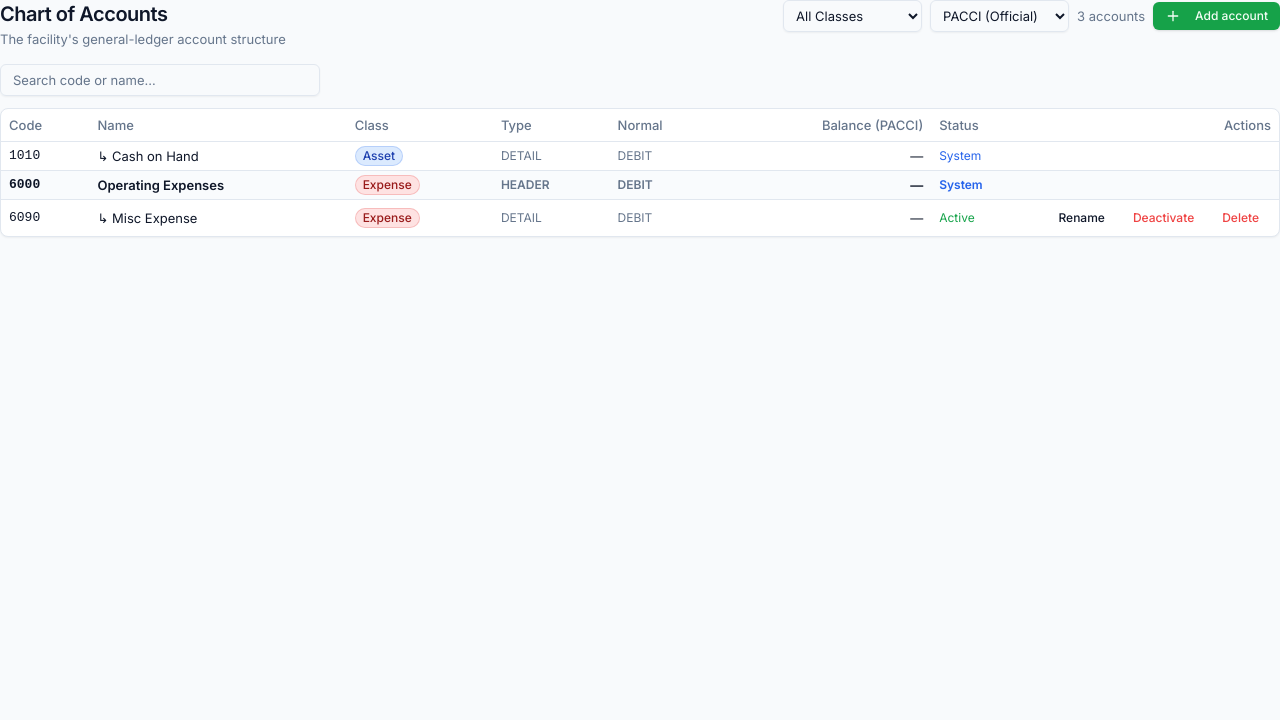
Test case: ChartOfAccountsPage — owner management › disables the section field for an EQUITY header — equity is placed by class, not by header
Expected: the text "↳ Misc Expense" is shown, [90,199,347,236]
Click the button "Add account".
click(1217, 16)  # box [1153,2,1279,30]
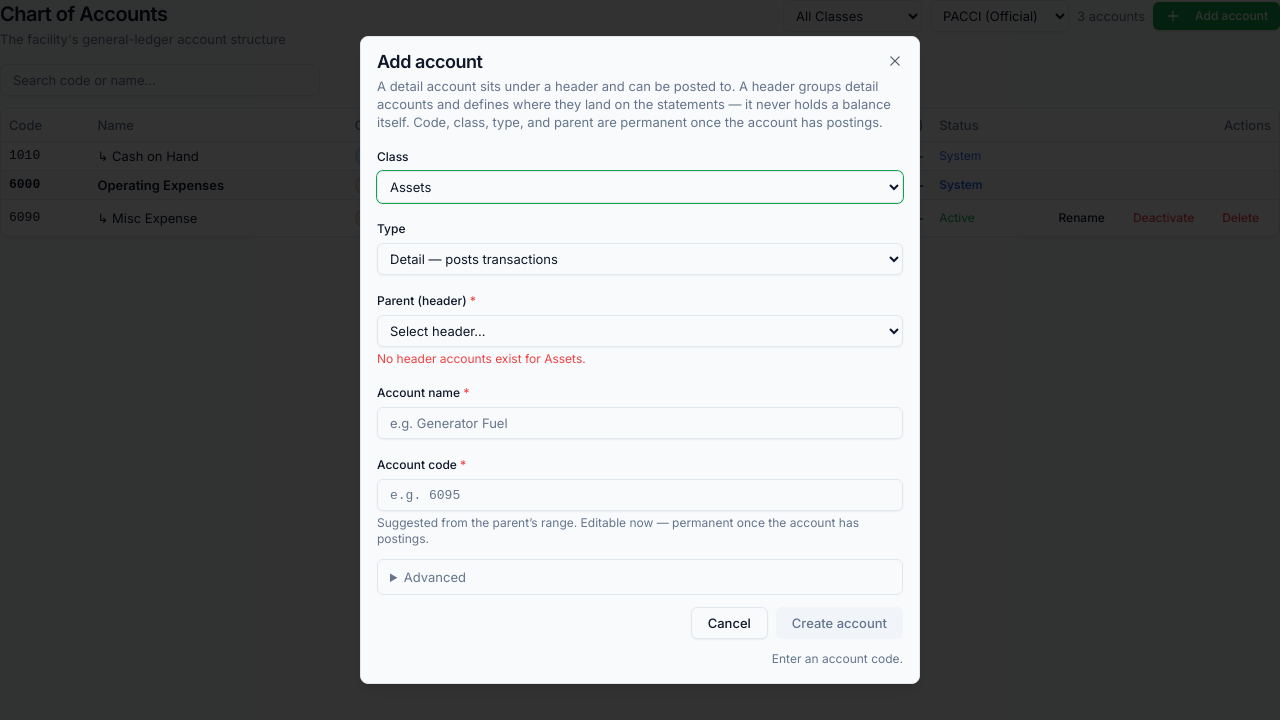
Select "Equity" in the dropdown labelled "Class" at (640, 187), box [377,171,903,203]
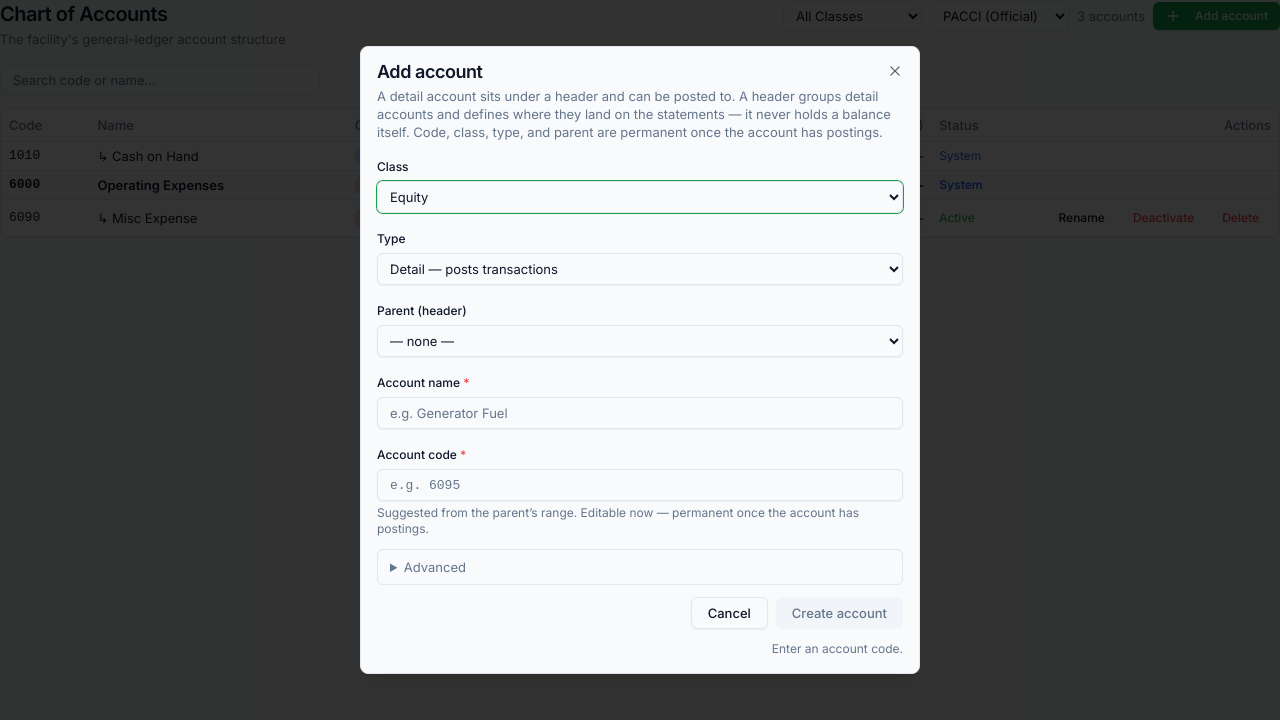
Select "Header — groups detail accounts" in the dropdown labelled "Type" at (640, 269), box [377,253,903,285]
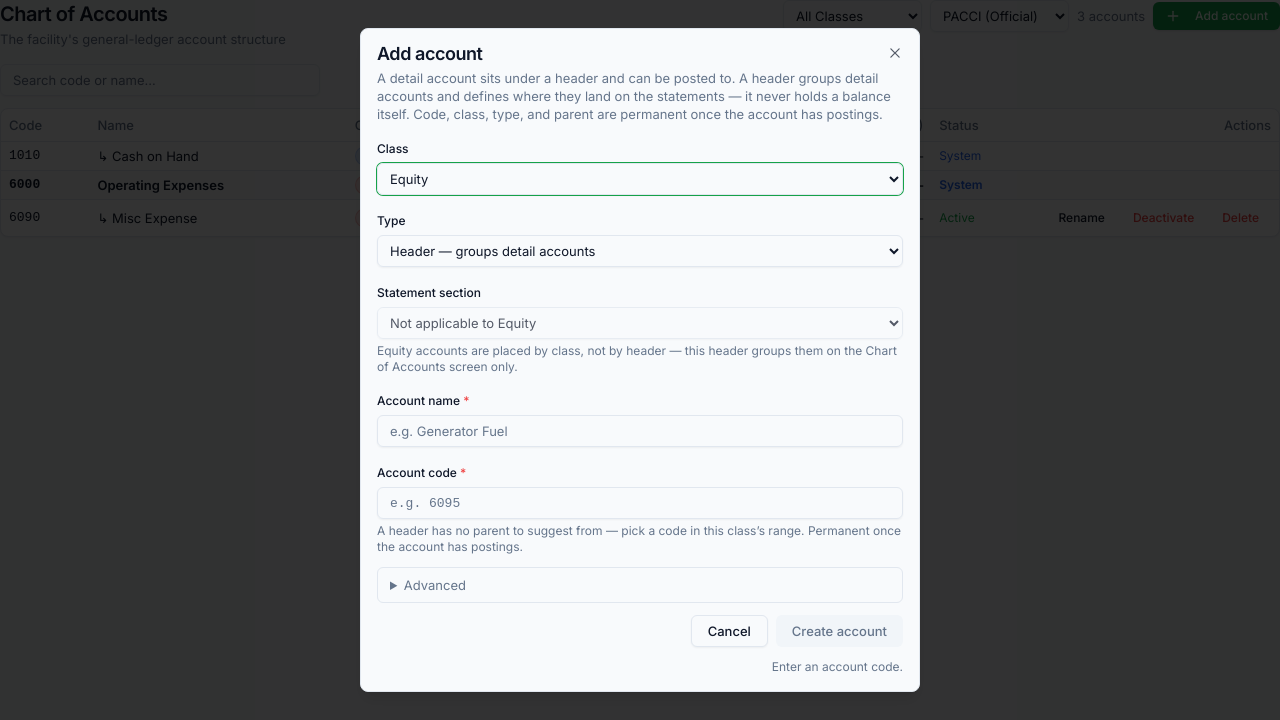
Expected: the dropdown labelled "Statement section" is disabled, [377,307,903,339]
